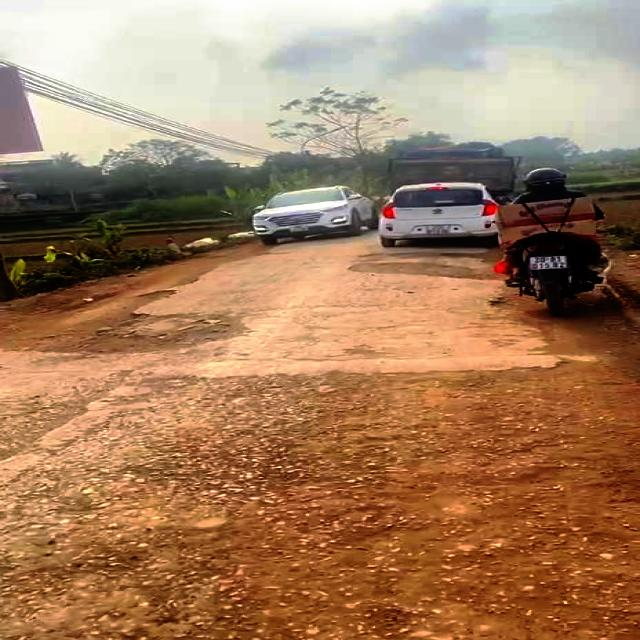pothole: (0, 284, 257, 360), (345, 260, 506, 283)
